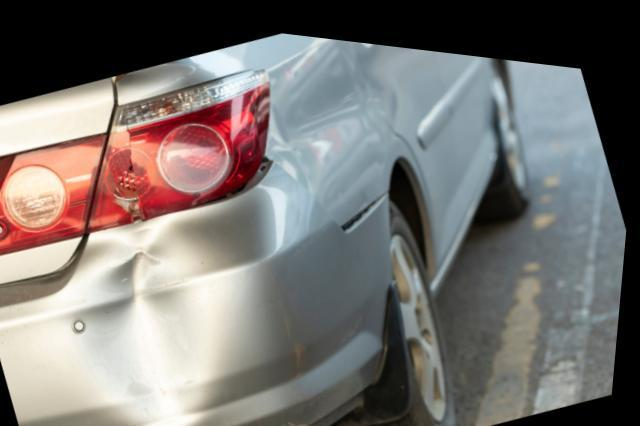dent: (77, 246, 226, 426), (274, 31, 401, 178), (118, 52, 191, 88)
dislocated part: (167, 157, 395, 426)
lamp broken: (89, 62, 272, 231)
